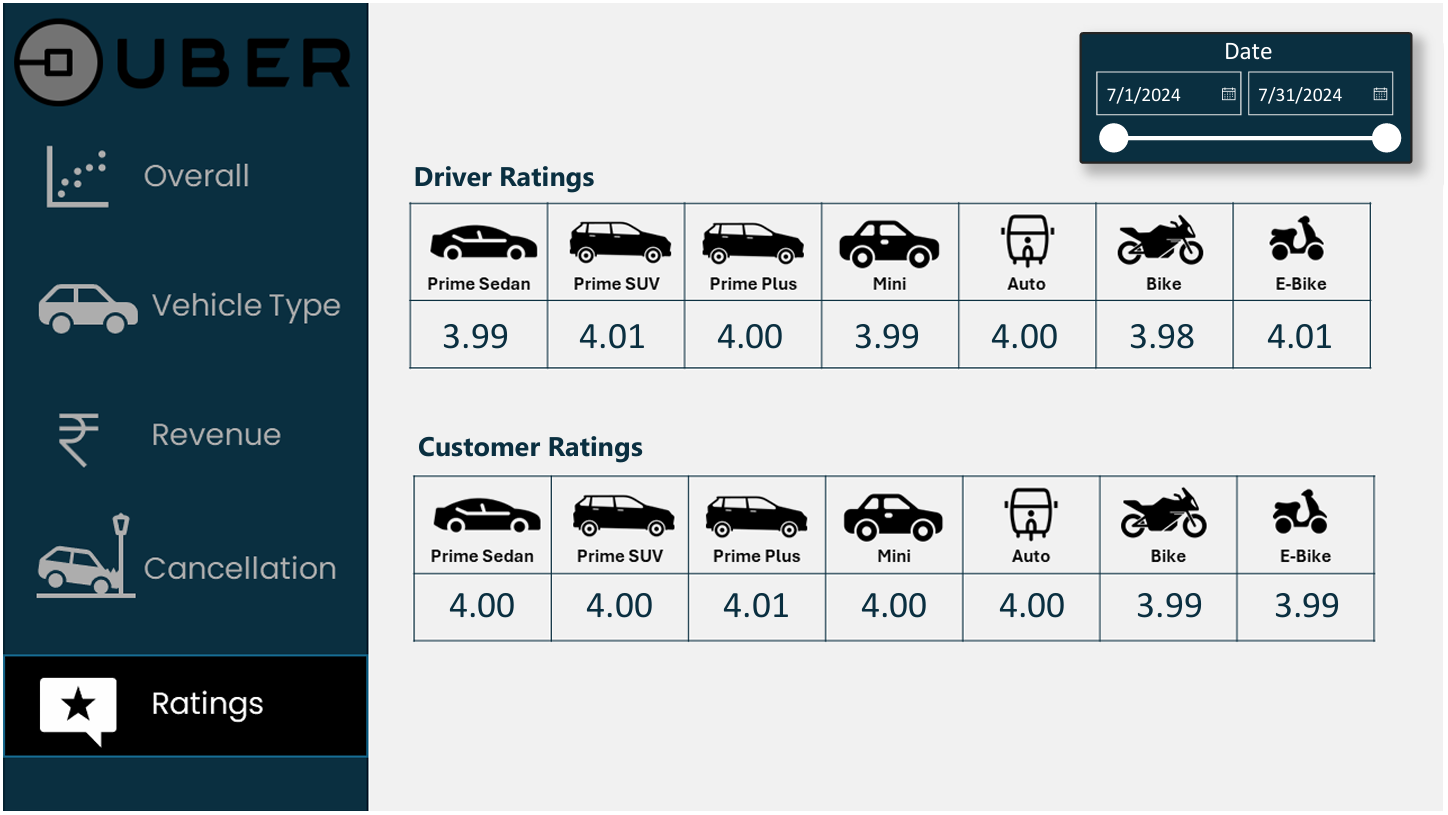

Layout of this report page (visuals, bound fields, positions):
{"tool":"powerbi","page":{"name":"Ratings","canvas":[1280,720],"ordinal":4},"visuals":[{"type":"actionButton","box":[0,341.7,322.5,89.2],"z":0},{"type":"actionButton","box":[0,450.1,322.5,89.2],"z":1000},{"type":"actionButton","box":[1.4,218.2,322.5,89.2],"z":2000},{"type":"actionButton","box":[1.4,112.5,322.5,89.2],"z":3000},{"type":"card","fields":{"Values":["Avg(Bookings.Driver_Ratings)"]},"box":[358.7,263.5,120.1,59.3],"z":4000},{"type":"card","fields":{"Values":["Avg(Bookings.Driver_Ratings)"]},"box":[480.8,263.5,120.1,59.3],"z":5000},{"type":"card","fields":{"Values":["Avg(Bookings.Driver_Ratings)"]},"box":[603,263.5,120.1,59.3],"z":6000},{"type":"card","fields":{"Values":["Avg(Bookings.Driver_Ratings)"]},"box":[725.1,263.5,120.1,59.3],"z":7000},{"type":"card","fields":{"Values":["Avg(Bookings.Driver_Ratings)"]},"box":[847.3,263.5,120.1,59.3],"z":8000},{"type":"card","fields":{"Values":["Avg(Bookings.Driver_Ratings)"]},"box":[969.5,263.5,120.1,59.3],"z":9000},{"type":"card","fields":{"Values":["Avg(Bookings.Driver_Ratings)"]},"box":[1091.6,263.5,120.1,59.3],"z":10000},{"type":"card","fields":{"Values":["Avg(Bookings.Customer_Rating)"]},"box":[364.9,503.1,120.1,59.3],"z":11000},{"type":"card","fields":{"Values":["Avg(Bookings.Customer_Rating)"]},"box":[487.1,503.1,120.1,59.3],"z":12000},{"type":"card","fields":{"Values":["Avg(Bookings.Customer_Rating)"]},"box":[609.2,503.1,120.1,59.3],"z":13000},{"type":"card","fields":{"Values":["Avg(Bookings.Customer_Rating)"]},"box":[731.4,503.1,120.1,59.3],"z":14000},{"type":"card","fields":{"Values":["Avg(Bookings.Customer_Rating)"]},"box":[853.6,503.1,120.1,59.3],"z":15000},{"type":"card","fields":{"Values":["Avg(Bookings.Customer_Rating)"]},"box":[975.7,503.1,120.1,59.3],"z":16000},{"type":"card","fields":{"Values":["Avg(Bookings.Customer_Rating)"]},"box":[1097.9,503.1,120.1,59.3],"z":17000},{"type":"textbox","box":[358.7,131,182.5,46.8],"z":18000},{"type":"textbox","box":[363.4,371.2,237,46.8],"z":19000},{"type":"slicer","title":"Date ","fields":{"Values":["Bookings.Date"]},"box":[955.5,25.3,296.8,117],"z":20000}]}

Visuals, with their boxes in screenshot pixels (x1, y1, x2, y2), scaled from the page's 1280x720 canvas onto the 1448x815 screenshot:
actionButton: (0,387,365,488)
actionButton: (0,509,365,610)
actionButton: (2,247,366,348)
actionButton: (2,127,366,228)
card - Avg(Bookings.Driver_Ratings): (406,298,542,365)
card - Avg(Bookings.Driver_Ratings): (544,298,680,365)
card - Avg(Bookings.Driver_Ratings): (682,298,818,365)
card - Avg(Bookings.Driver_Ratings): (820,298,956,365)
card - Avg(Bookings.Driver_Ratings): (959,298,1094,365)
card - Avg(Bookings.Driver_Ratings): (1097,298,1233,365)
card - Avg(Bookings.Driver_Ratings): (1235,298,1371,365)
card - Avg(Bookings.Customer_Rating): (413,569,549,637)
card - Avg(Bookings.Customer_Rating): (551,569,687,637)
card - Avg(Bookings.Customer_Rating): (689,569,825,637)
card - Avg(Bookings.Customer_Rating): (827,569,963,637)
card - Avg(Bookings.Customer_Rating): (966,569,1101,637)
card - Avg(Bookings.Customer_Rating): (1104,569,1240,637)
card - Avg(Bookings.Customer_Rating): (1242,569,1378,637)
textbox: (406,148,612,201)
textbox: (411,420,679,473)
"Date " slicer: (1081,29,1417,161)
